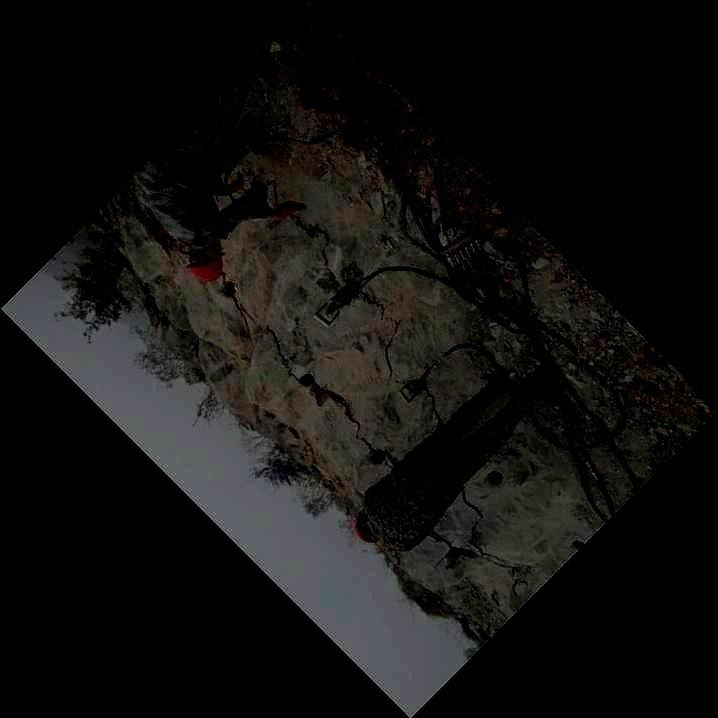helmet: (183, 233, 228, 284), (351, 509, 378, 545)
